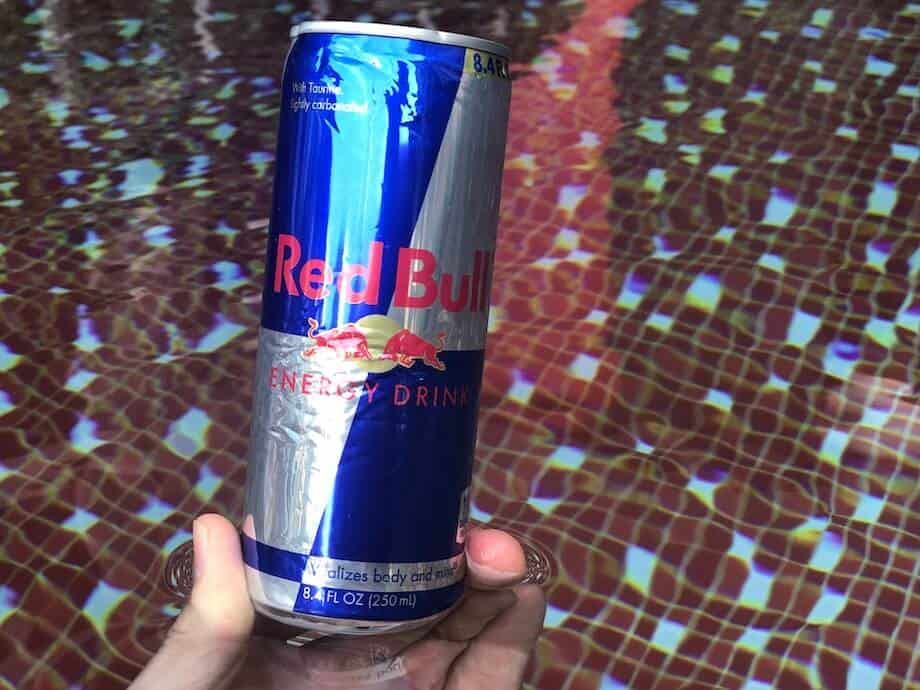redbull: (237, 14, 513, 639)
